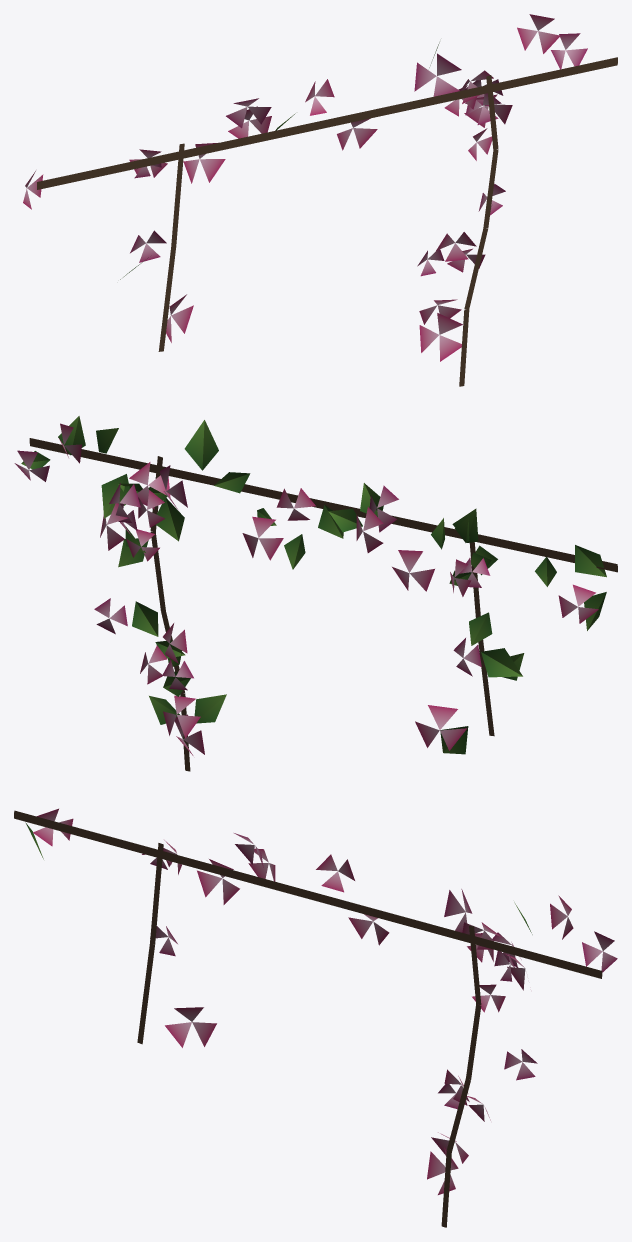
The model's file is climber_bougainvillea.glb.
3 views of the same model, one above another, from view 1: azimuth 30°, elevation 25°; view 2: azimuth 150°, elevation 25°; view 3: azimuth 330°, elevation 25° (orthographic).
Parts seen in each view (by area): view 1: climber_bougainvillea; view 2: climber_bougainvillea; view 3: climber_bougainvillea.
Part boxes in pixels (x1,y1,x2,y2): climber_bougainvillea: (23,14,617,386); climber_bougainvillea: (14,416,617,771); climber_bougainvillea: (14,808,617,1227).
Bounding box in the file's own units: 1.81 × 1.05 × 0.2006.
